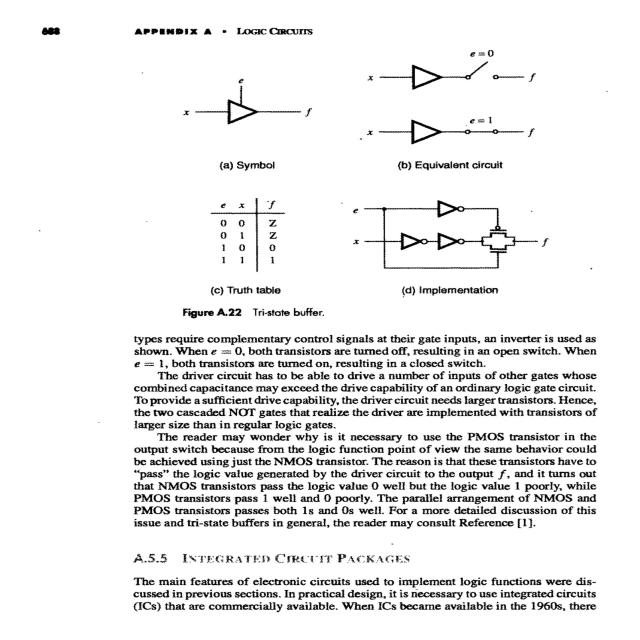diagram: (146, 52, 604, 328)
